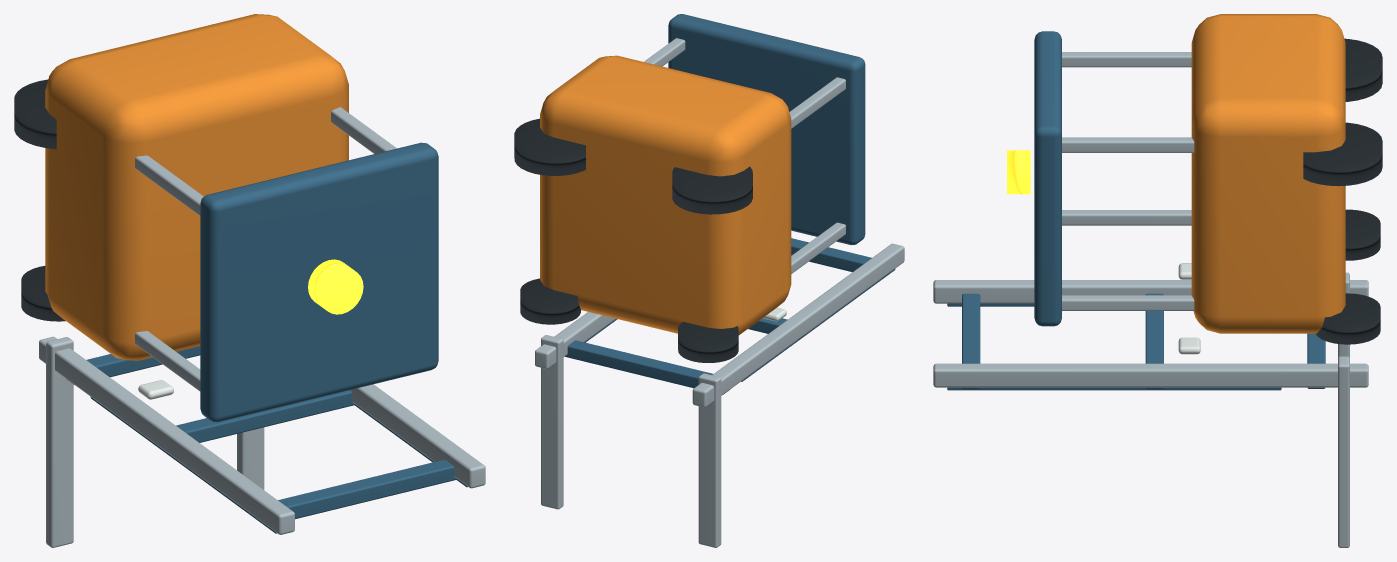
The model's file is hero_robot_forklift.glb.
The picture shows the model from 3 angles, left to right: view 1: azimuth 30°, elevation 25°; view 2: azimuth 150°, elevation 25°; view 3: azimuth 270°, elevation 25°; orthographic projection. The views are drawn at different scales.
Visible parts, largest first — view 1: Forklift body, Forklift cab roof, Forklift mast rail, Fork tine, Forklift mast rail.001, Forklift mast crossbar.002, Forklift mast crossbar.001, Forklift beacon, Forklift tire, Forklift cab pillar.001, Forklift cab pillar, Forklift steer tire (+3 smaller); view 2: Forklift body, Forklift cab roof, Forklift mast rail, Fork tine, Fork tine.001, Forklift tire, Forklift tire.001, Forklift mast crossbar, Forklift steer tire, Forklift steer tire.001, Forklift mast rail.001, Forklift mast crossbar.002 (+3 smaller); view 3: Forklift body, Forklift mast rail.001, Forklift cab roof, Forklift mast rail, Forklift tire.001, Forklift steer tire.001, Fork tine.001, Forklift cab pillar.002, Forklift cab pillar.003, Forklift cab pillar, Forklift cab pillar.001, Forklift tire (+6 smaller).
Boxes of the visible parts, x1,y1,x2,y2 form: Forklift body: (45,14,348,360); Forklift cab roof: (200,142,438,422); Forklift mast rail: (39,336,294,534); Fork tine: (46,337,73,547); Forklift mast rail.001: (350,384,485,488); Forklift mast crossbar.002: (258,459,457,525); Forklift mast crossbar.001: (157,390,355,450); Forklift beacon: (308,259,363,314); Forklift tire: (14,79,56,149); Forklift cab pillar.001: (135,155,203,215); Forklift cab pillar: (135,331,200,391); Forklift steer tire: (21,266,65,321); Forklift body: (540,55,791,335); Forklift cab roof: (668,14,865,245); Forklift mast rail: (692,243,904,407); Fork tine: (698,373,721,547); Fork tine.001: (541,335,563,509); Forklift tire: (672,166,752,214); Forklift tire.001: (514,118,585,175); Forklift mast crossbar: (565,340,728,394); Forklift steer tire: (678,322,738,362); Forklift steer tire.001: (520,278,580,324); Forklift mast rail.001: (535,312,615,368); Forklift mast crossbar.002: (791,238,888,278); Forklift body: (1191,14,1345,333); Forklift mast rail.001: (933,363,1368,387); Forklift cab roof: (1034,31,1061,326); Forklift mast rail: (933,280,1368,303); Forklift tire.001: (1303,122,1382,186); Forklift steer tire.001: (1315,293,1380,344); Fork tine.001: (1338,356,1349,547); Forklift cab pillar.002: (1062,295,1194,310); Forklift cab pillar.003: (1062,137,1194,152); Forklift cab pillar: (1062,210,1191,225); Forklift cab pillar.001: (1062,52,1191,67); Forklift tire: (1344,38,1382,101).
Size of the model in its own units: 1.56 by 2.67 by 2.44.
